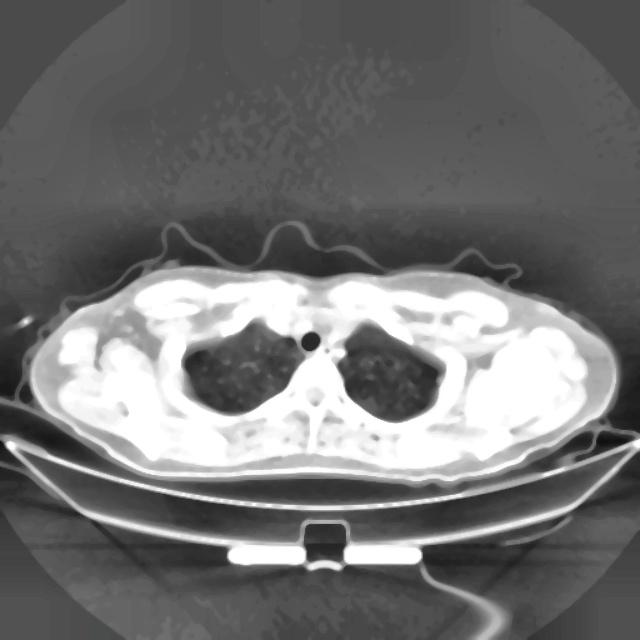covid: (22, 221, 621, 492)
